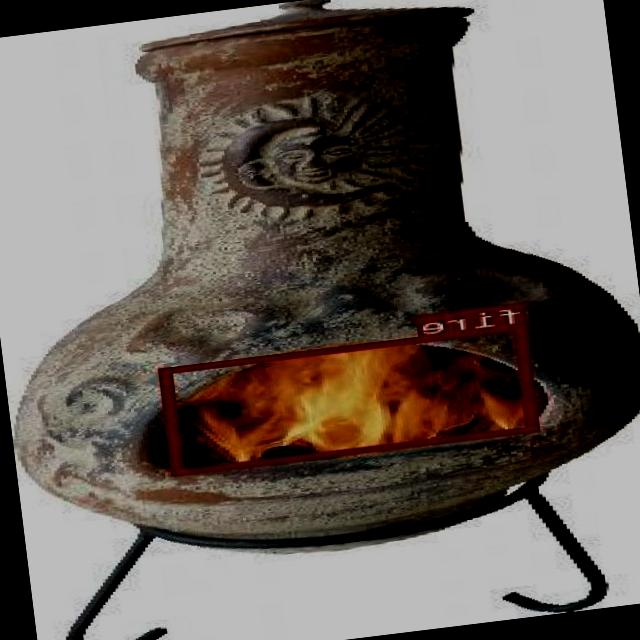fire: (161, 323, 542, 475)
